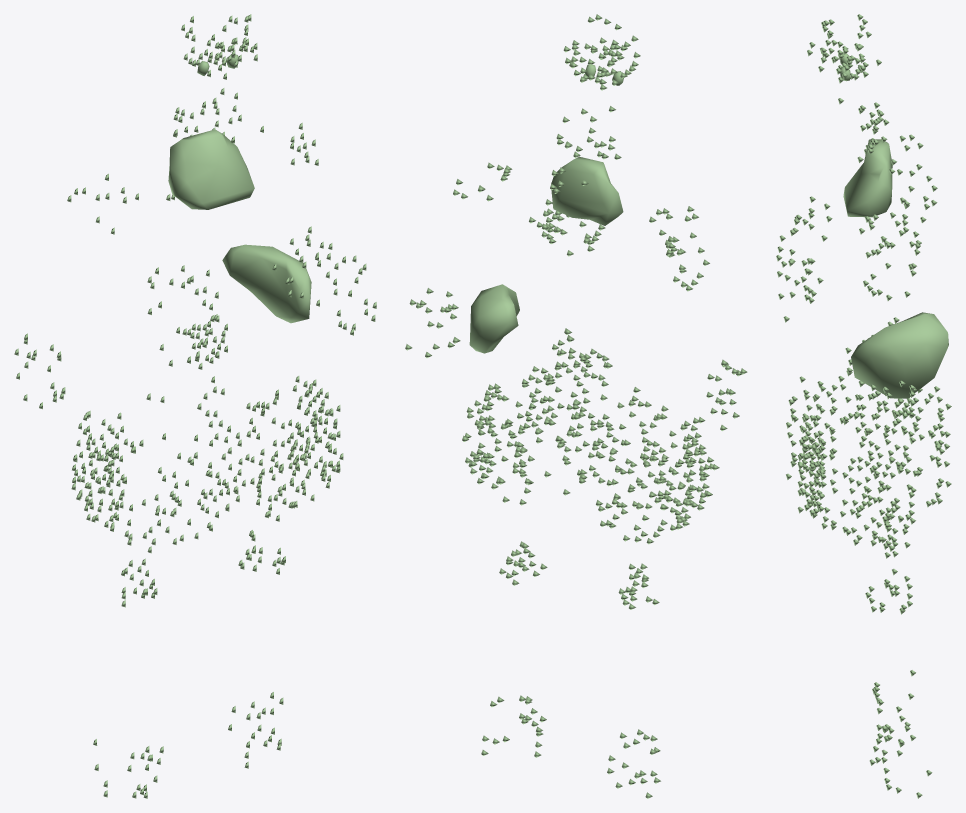
File: pediatric_infant_male.lymphatic.LOD3.glb
3 views of the same model, side by side, from view 1: azimuth 30°, elevation 25°; view 2: azimuth 150°, elevation 25°; view 3: azimuth 270°, elevation 25° (orthographic). The views are drawn at different scales.
Visible parts, largest first — view 1: PEDIATRIC.INFANT.MALE.LYMPHATIC.LYMPHATIC_NODES_TRUNK, PEDIATRIC.INFANT.MALE.LYMPHATIC.THYMUS, PEDIATRIC.INFANT.MALE.LYMPHATIC.SPLEEN, PEDIATRIC.INFANT.MALE.LYMPHATIC.LYMPHATIC_NODES_ET, PEDIATRIC.INFANT.MALE.LYMPHATIC.LYMPHATIC_NODES_LEGS, PEDIATRIC.INFANT.MALE.LYMPHATIC.LYMPHATIC_NODES_ARMS, PEDIATRIC.INFANT.MALE.LYMPHATIC.LYMPHATIC_NODES_THORACIC; view 2: PEDIATRIC.INFANT.MALE.LYMPHATIC.LYMPHATIC_NODES_TRUNK, PEDIATRIC.INFANT.MALE.LYMPHATIC.THYMUS, PEDIATRIC.INFANT.MALE.LYMPHATIC.SPLEEN, PEDIATRIC.INFANT.MALE.LYMPHATIC.LYMPHATIC_NODES_THORACIC, PEDIATRIC.INFANT.MALE.LYMPHATIC.LYMPHATIC_NODES_ET, PEDIATRIC.INFANT.MALE.LYMPHATIC.LYMPHATIC_NODES_LEGS, PEDIATRIC.INFANT.MALE.LYMPHATIC.LYMPHATIC_NODES_ARMS; view 3: PEDIATRIC.INFANT.MALE.LYMPHATIC.LYMPHATIC_NODES_TRUNK, PEDIATRIC.INFANT.MALE.LYMPHATIC.SPLEEN, PEDIATRIC.INFANT.MALE.LYMPHATIC.THYMUS, PEDIATRIC.INFANT.MALE.LYMPHATIC.LYMPHATIC_NODES_ET, PEDIATRIC.INFANT.MALE.LYMPHATIC.LYMPHATIC_NODES_ARMS, PEDIATRIC.INFANT.MALE.LYMPHATIC.LYMPHATIC_NODES_LEGS, PEDIATRIC.INFANT.MALE.LYMPHATIC.LYMPHATIC_NODES_THORACIC, PEDIATRIC.INFANT.MALE.LYMPHATIC.LYMPHATIC_NODES_HEAD.
Part boxes in pixels (bbox=[...]): PEDIATRIC.INFANT.MALE.LYMPHATIC.LYMPHATIC_NODES_TRUNK: bbox=[67, 122, 343, 607]; PEDIATRIC.INFANT.MALE.LYMPHATIC.THYMUS: bbox=[168, 129, 254, 209]; PEDIATRIC.INFANT.MALE.LYMPHATIC.SPLEEN: bbox=[222, 244, 311, 323]; PEDIATRIC.INFANT.MALE.LYMPHATIC.LYMPHATIC_NODES_ET: bbox=[181, 14, 257, 79]; PEDIATRIC.INFANT.MALE.LYMPHATIC.LYMPHATIC_NODES_LEGS: bbox=[93, 692, 283, 798]; PEDIATRIC.INFANT.MALE.LYMPHATIC.LYMPHATIC_NODES_ARMS: bbox=[14, 255, 376, 409]; PEDIATRIC.INFANT.MALE.LYMPHATIC.LYMPHATIC_NODES_THORACIC: bbox=[159, 125, 227, 369]; PEDIATRIC.INFANT.MALE.LYMPHATIC.LYMPHATIC_NODES_TRUNK: bbox=[453, 162, 719, 609]; PEDIATRIC.INFANT.MALE.LYMPHATIC.THYMUS: bbox=[551, 156, 623, 225]; PEDIATRIC.INFANT.MALE.LYMPHATIC.SPLEEN: bbox=[469, 284, 519, 353]; PEDIATRIC.INFANT.MALE.LYMPHATIC.LYMPHATIC_NODES_THORACIC: bbox=[542, 167, 612, 386]; PEDIATRIC.INFANT.MALE.LYMPHATIC.LYMPHATIC_NODES_ET: bbox=[563, 14, 640, 90]; PEDIATRIC.INFANT.MALE.LYMPHATIC.LYMPHATIC_NODES_LEGS: bbox=[481, 695, 660, 798]; PEDIATRIC.INFANT.MALE.LYMPHATIC.LYMPHATIC_NODES_ARMS: bbox=[405, 288, 747, 430]; PEDIATRIC.INFANT.MALE.LYMPHATIC.LYMPHATIC_NODES_TRUNK: bbox=[776, 116, 951, 614]; PEDIATRIC.INFANT.MALE.LYMPHATIC.SPLEEN: bbox=[851, 312, 948, 398]; PEDIATRIC.INFANT.MALE.LYMPHATIC.THYMUS: bbox=[843, 139, 892, 217]; PEDIATRIC.INFANT.MALE.LYMPHATIC.LYMPHATIC_NODES_ET: bbox=[807, 14, 881, 83]; PEDIATRIC.INFANT.MALE.LYMPHATIC.LYMPHATIC_NODES_ARMS: bbox=[859, 230, 920, 451]; PEDIATRIC.INFANT.MALE.LYMPHATIC.LYMPHATIC_NODES_LEGS: bbox=[869, 670, 932, 798]; PEDIATRIC.INFANT.MALE.LYMPHATIC.LYMPHATIC_NODES_THORACIC: bbox=[862, 145, 937, 342]; PEDIATRIC.INFANT.MALE.LYMPHATIC.LYMPHATIC_NODES_HEAD: bbox=[838, 98, 889, 162].
Size of the model in its own units: 0.2406 by 0.5133 by 0.1092.
